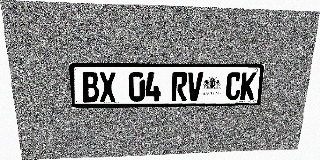0: (128, 72, 145, 102)
4: (145, 72, 161, 101)
B: (81, 72, 100, 102)
C: (225, 72, 242, 100)
K: (240, 72, 257, 100)
R: (171, 72, 187, 101)
V: (187, 72, 203, 101)
X: (99, 72, 116, 102)
